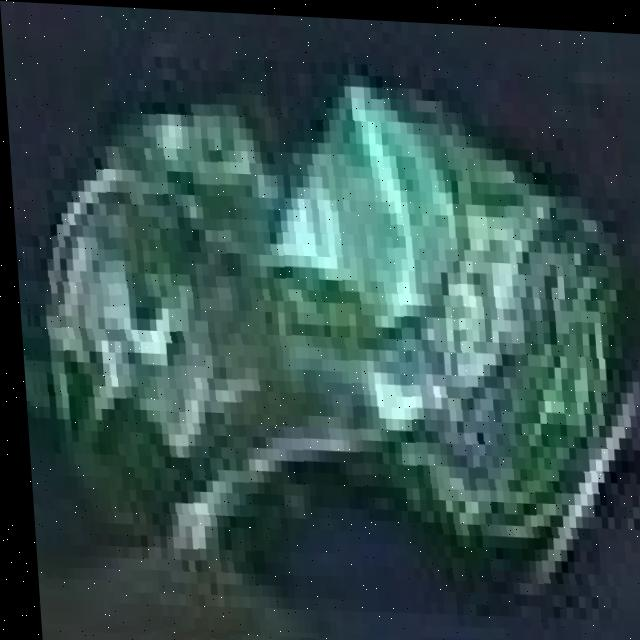litter: (38, 52, 640, 638)
